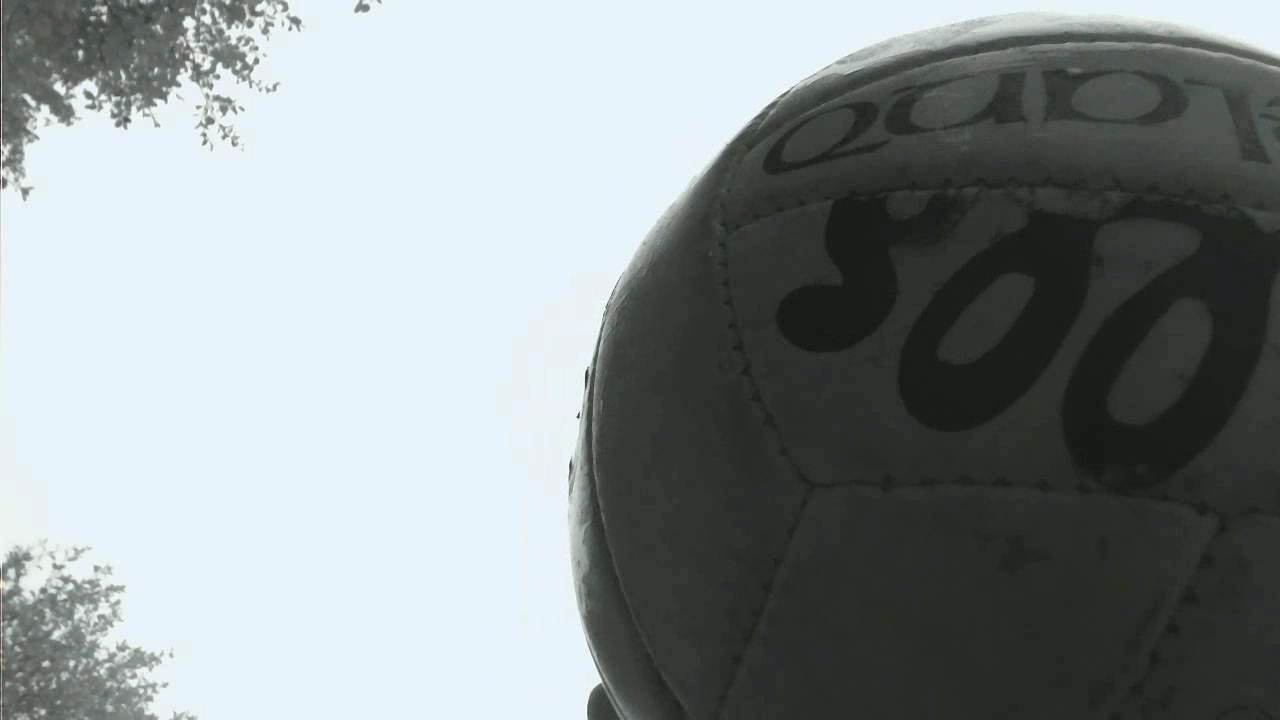Football-Spotter: (570, 16, 1279, 719)
